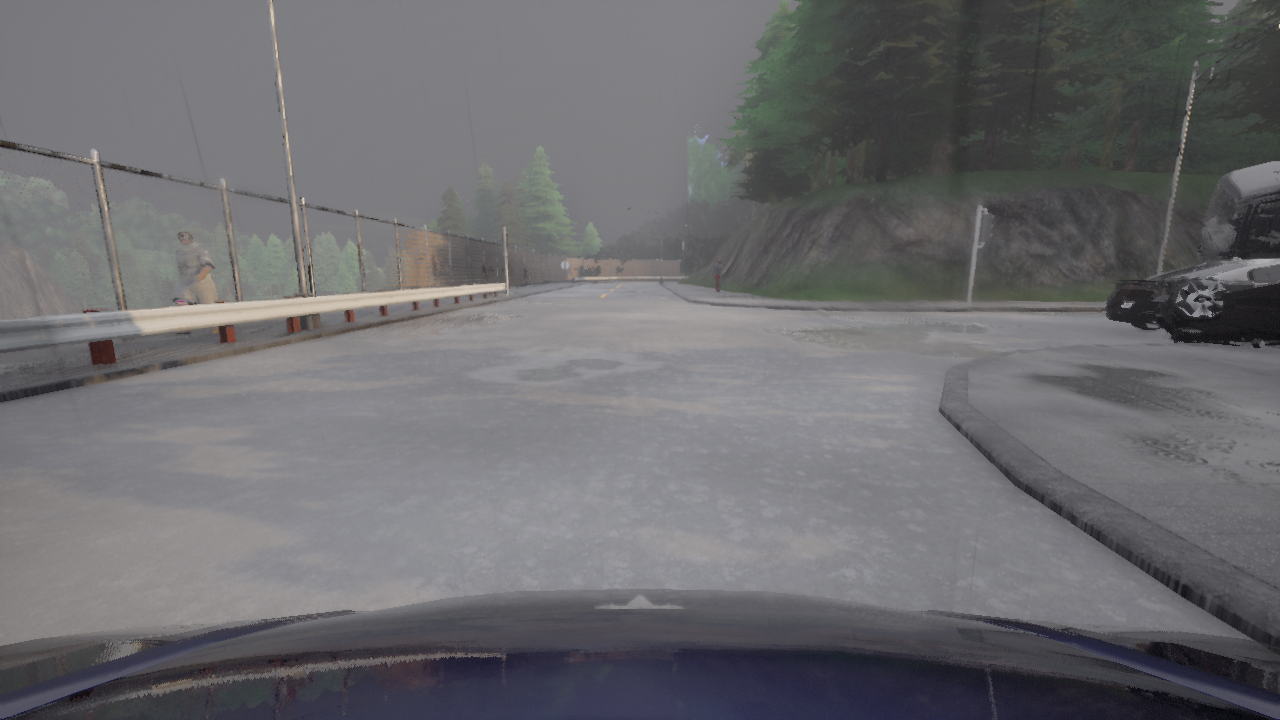cyclist: (0, 588, 1279, 719), (1106, 251, 1279, 330), (1154, 278, 1279, 352), (1198, 161, 1279, 262)
pedestrian: (172, 230, 218, 335), (480, 259, 495, 295), (712, 260, 721, 292), (719, 260, 724, 292)
